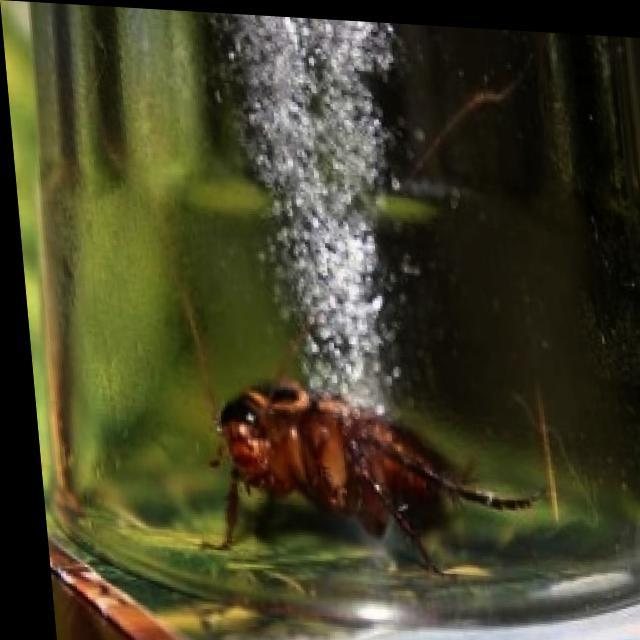cockroach: (198, 372, 544, 580)
